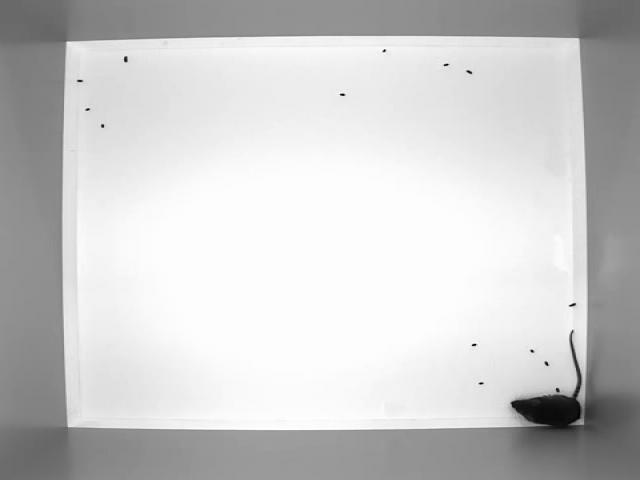Tikus: (506, 333, 583, 427)
